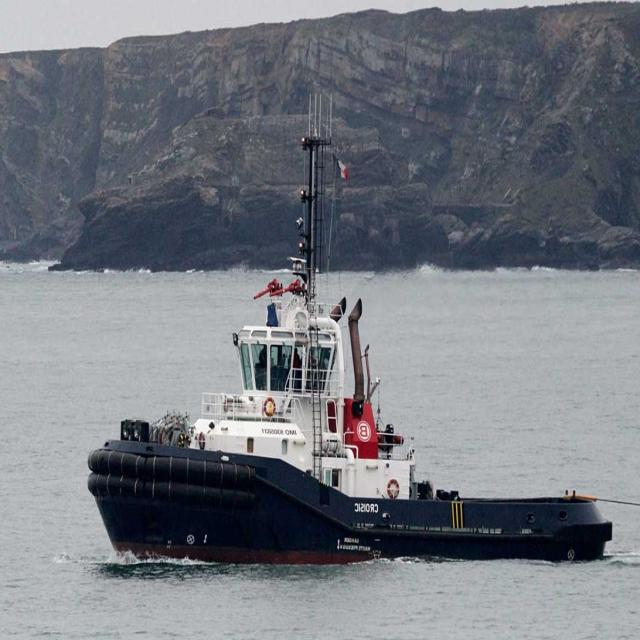houseboat: (86, 190, 630, 564)
